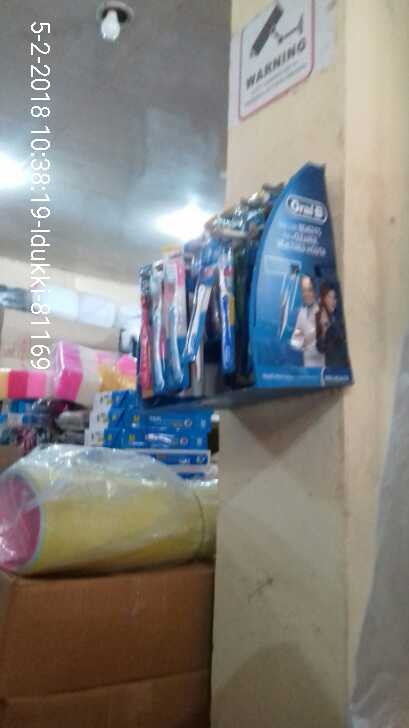oralb: (162, 259, 193, 387), (143, 260, 167, 396), (214, 233, 237, 361)
